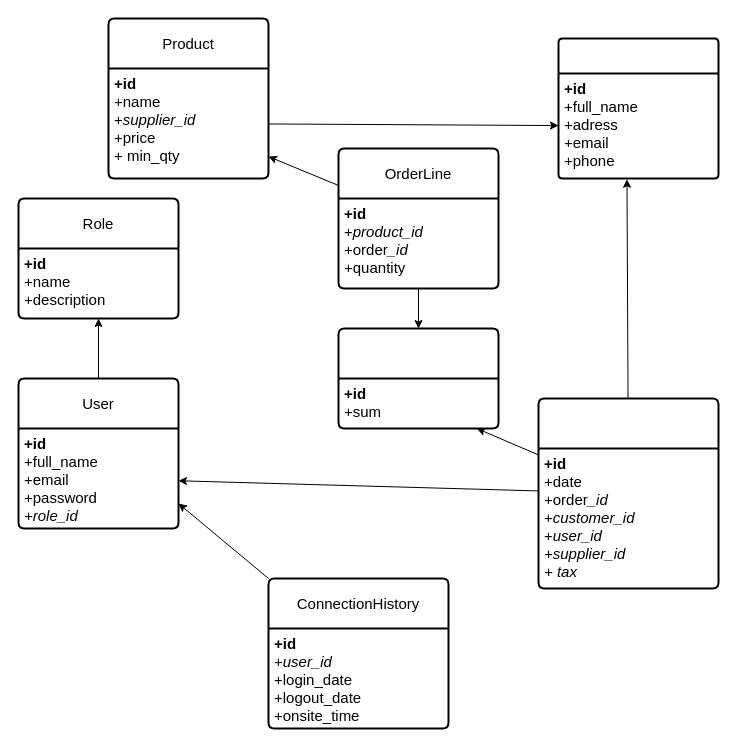
Some shapes in this 736 by 746 pixel diagram are drawn without their labels. The box of each missing label's shape, as (x1, y1, x2, y2) in pixels:
Invoice: (537, 397, 719, 589)
Orders: (337, 327, 499, 429)
Supplier: (557, 37, 719, 179)
